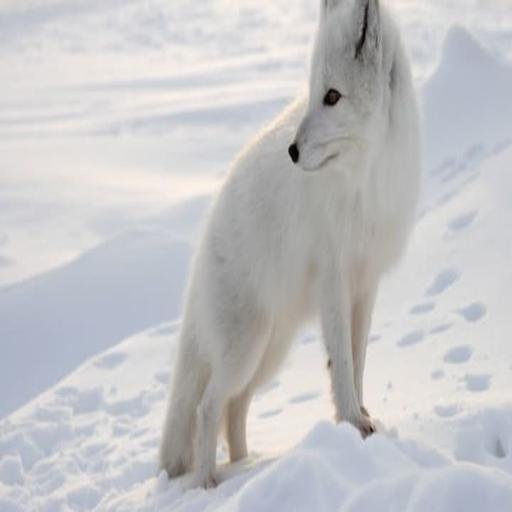Fox: (152, 0, 422, 488)
